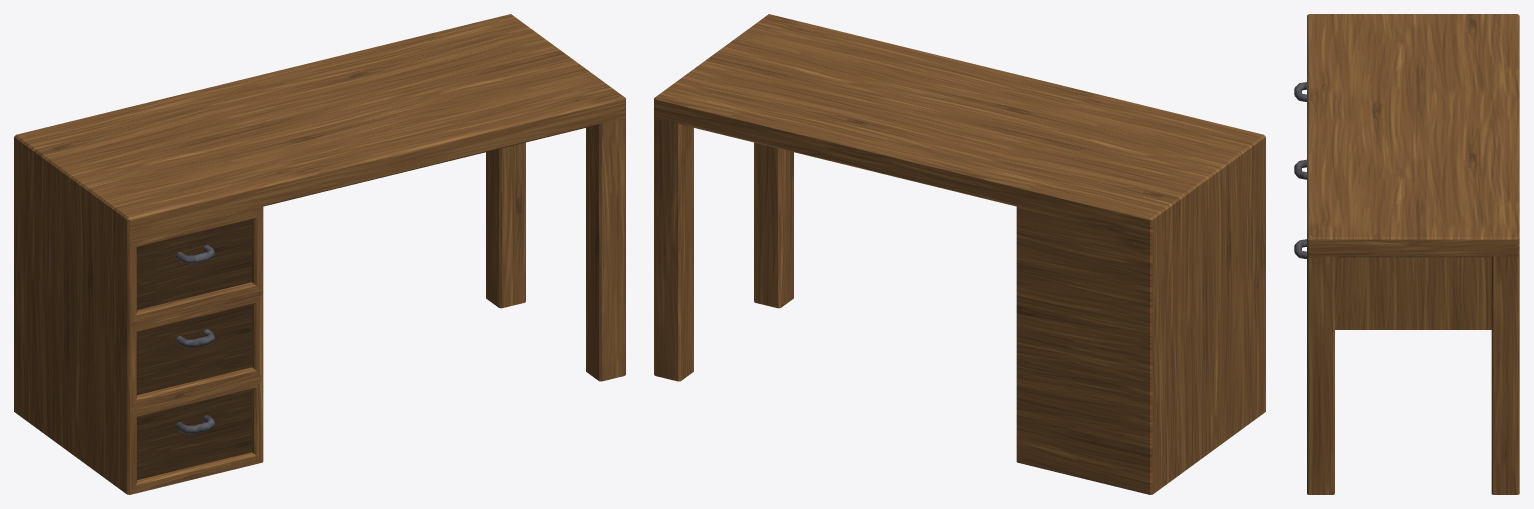
Rendered from desk.fbx.
3 renders of one model, left to right at view 1: azimuth 30°, elevation 25°; view 2: azimuth 150°, elevation 25°; view 3: azimuth 270°, elevation 25°, orthographic. The views are drawn at different scales.
Visible parts, largest first — view 1: Cube; view 2: Cube; view 3: Cube.
Boxes of the visible parts, x1,y1,x2,y2 form: Cube: [14, 14, 625, 494]; Cube: [654, 14, 1265, 494]; Cube: [1294, 14, 1519, 494].
Bounding box in the file's own units: 150 × 80 × 63.55.
3 materials, 3 textured.
